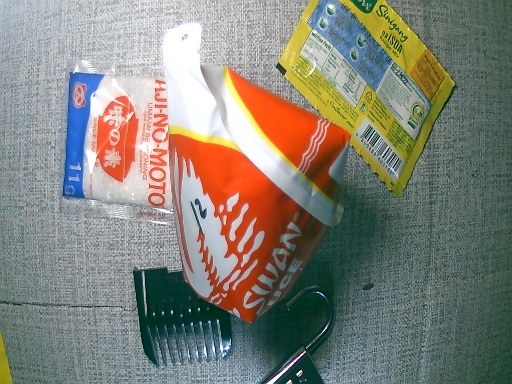metal: (256, 287, 347, 384)
plastic: (166, 28, 345, 323), (278, 1, 458, 201), (63, 55, 183, 226)
trash: (129, 265, 239, 364)
